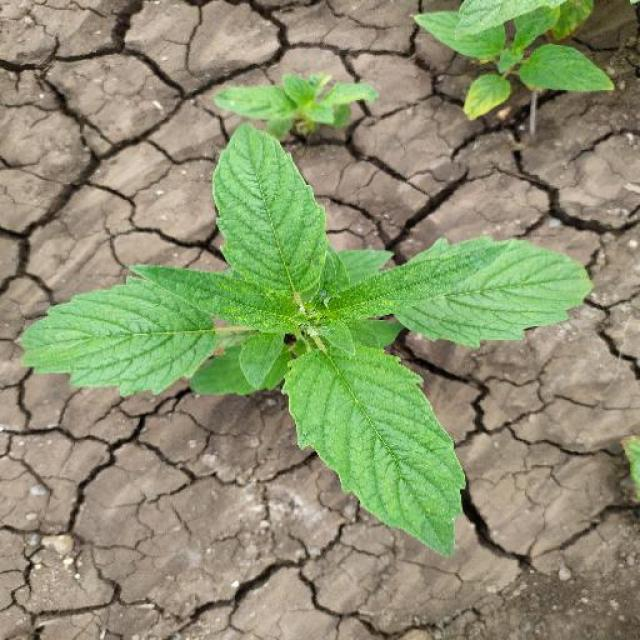crop: (15, 121, 593, 550)
